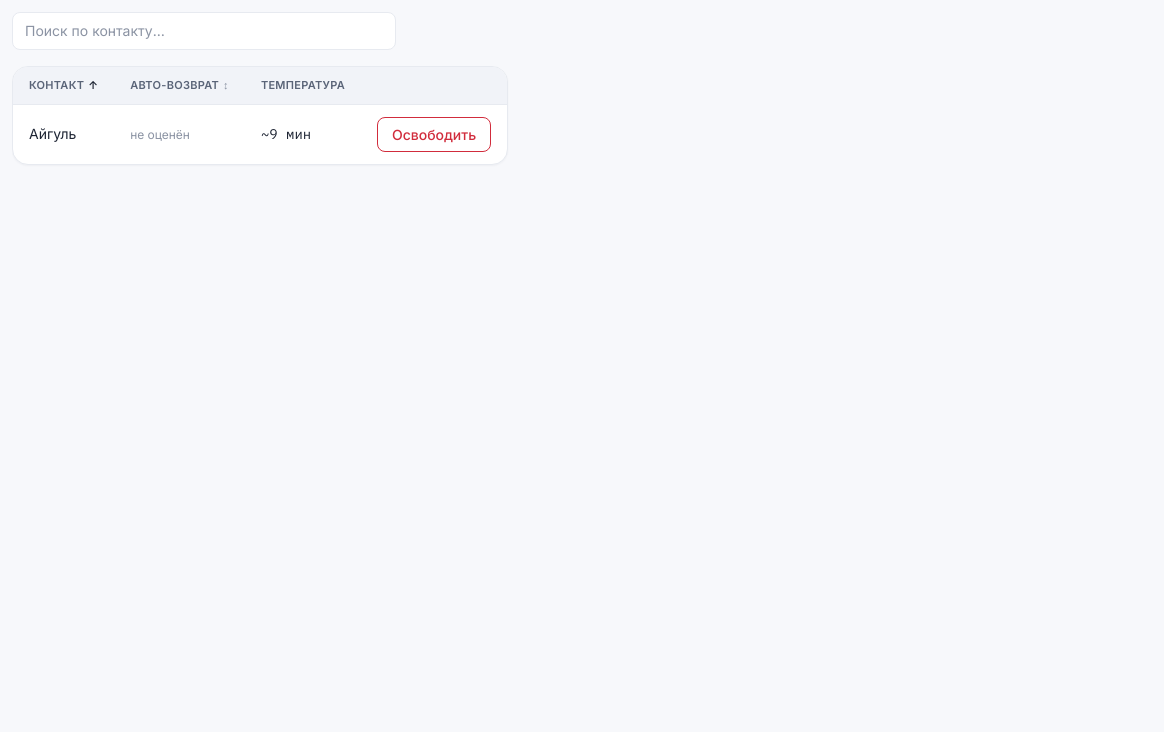
Test: shows an error toast and keeps the row when releasing fails
Click the button "Освободить": {"x": 434, "y": 134} [377,116,491,152]
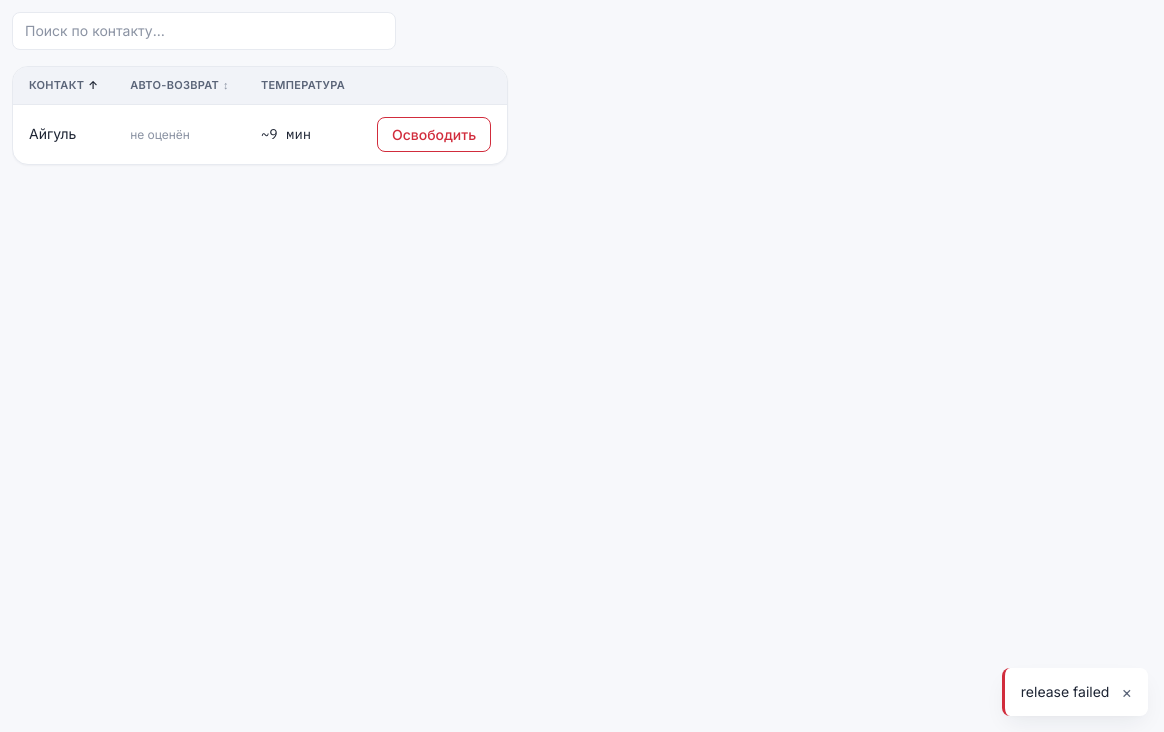
expect the text "Айгуль" is shown: met, box [13,104,114,164]
expect the message shows "release failed": met, box [1021,683,1109,700]
